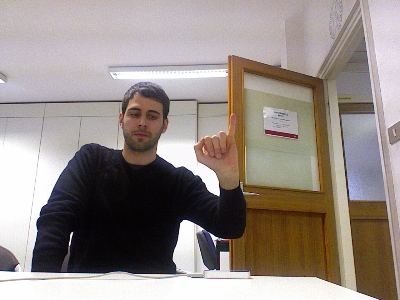小指: (192, 112, 239, 173)
